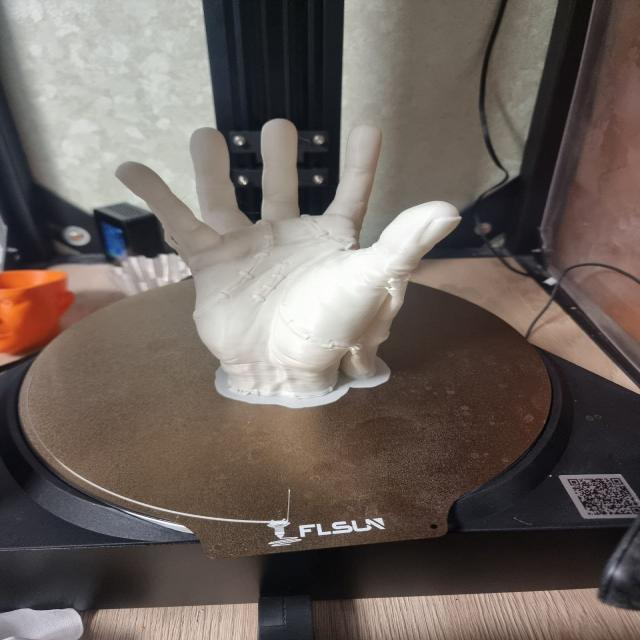Without deffect: (112, 112, 466, 416)
